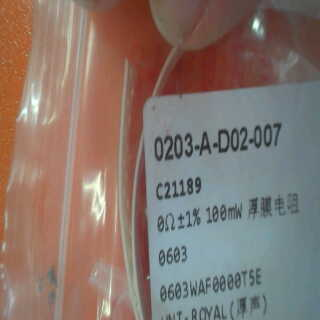0R: (151, 207, 204, 269)
